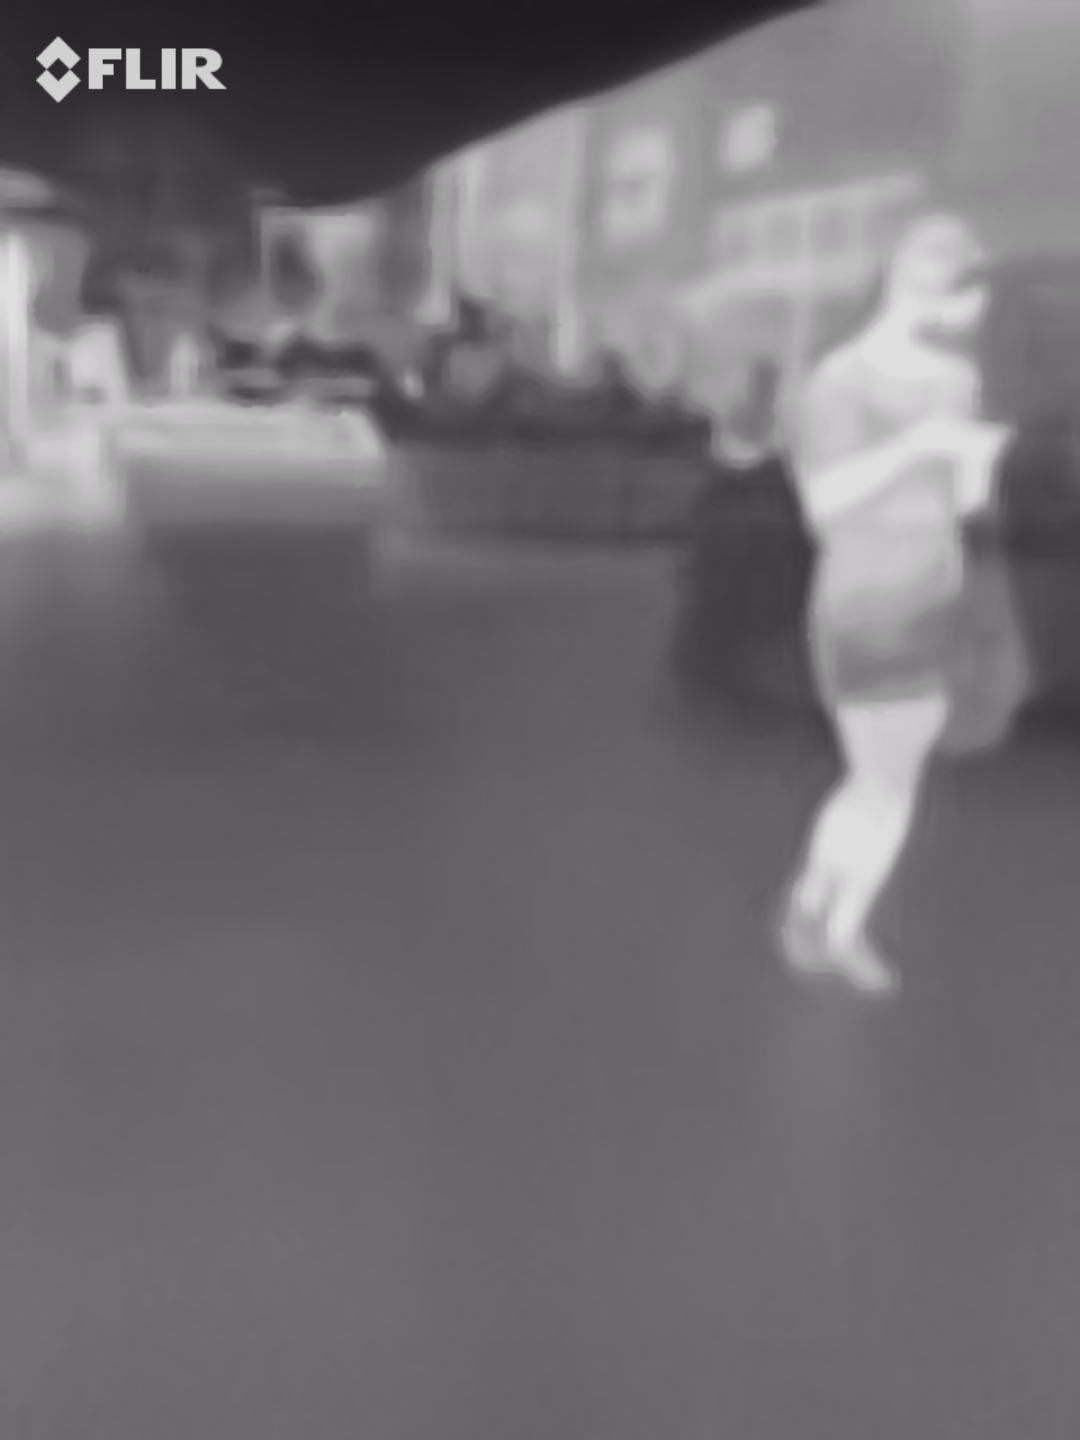head: (882, 215, 991, 354)
